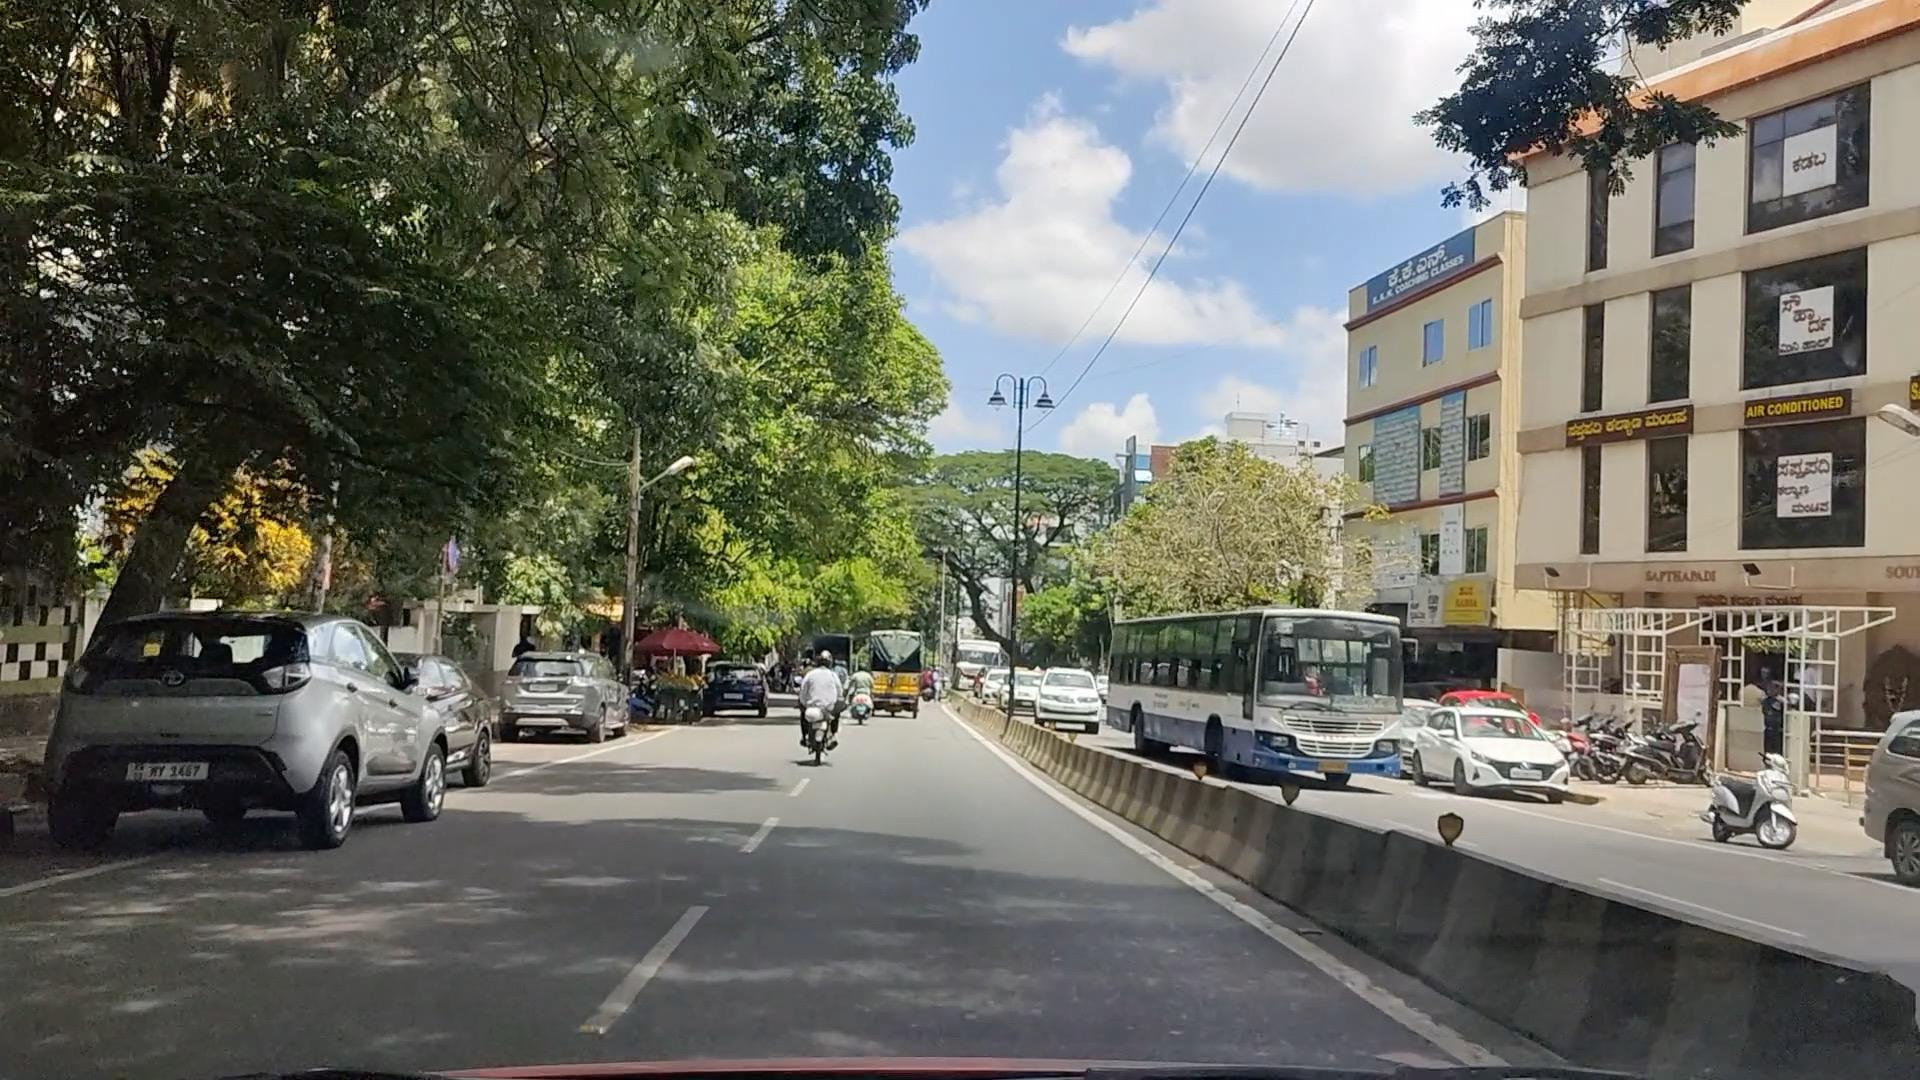LMV: (57, 580, 436, 852), (787, 633, 864, 774)
